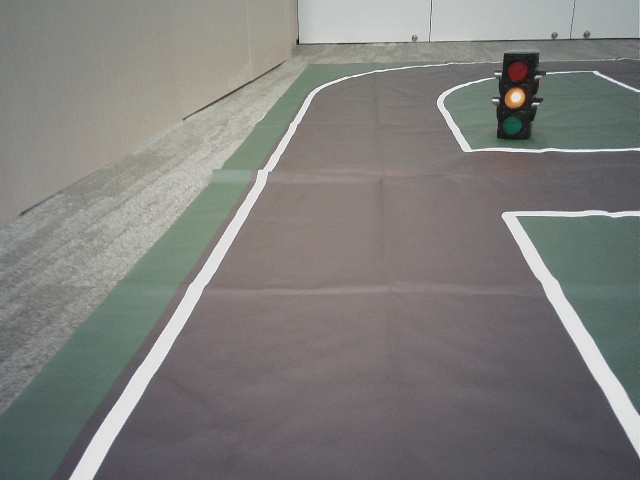yellow: (497, 55, 529, 134)
